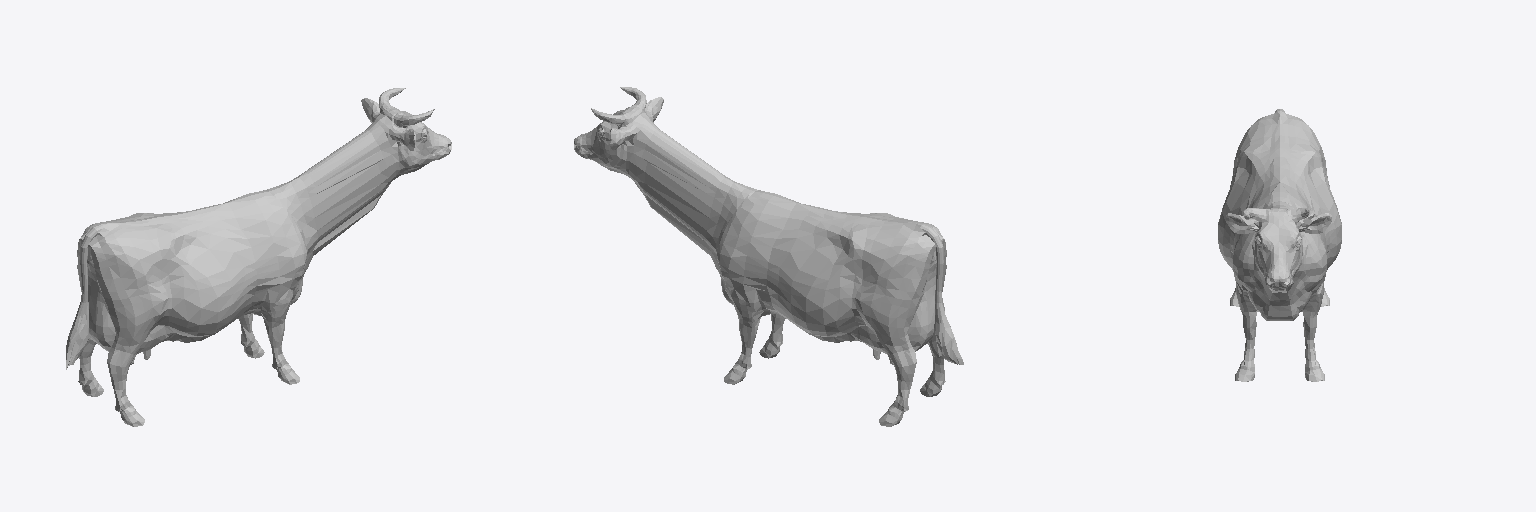
The model's file is anicow.obj.
The picture shows the model from 3 angles: view 1: azimuth 30°, elevation 25°; view 2: azimuth 150°, elevation 25°; view 3: azimuth 270°, elevation 25°; orthographic projection.
Visible parts, largest first — view 1: cow; view 2: cow; view 3: cow.
Boxes of the visible parts, box(x1,y1,x2,y2) form: cow: box(66, 88, 451, 426); cow: box(574, 87, 963, 426); cow: box(1218, 109, 1341, 381).
Bounding box in the file's own units: 12.17 × 7.13 × 3.4.